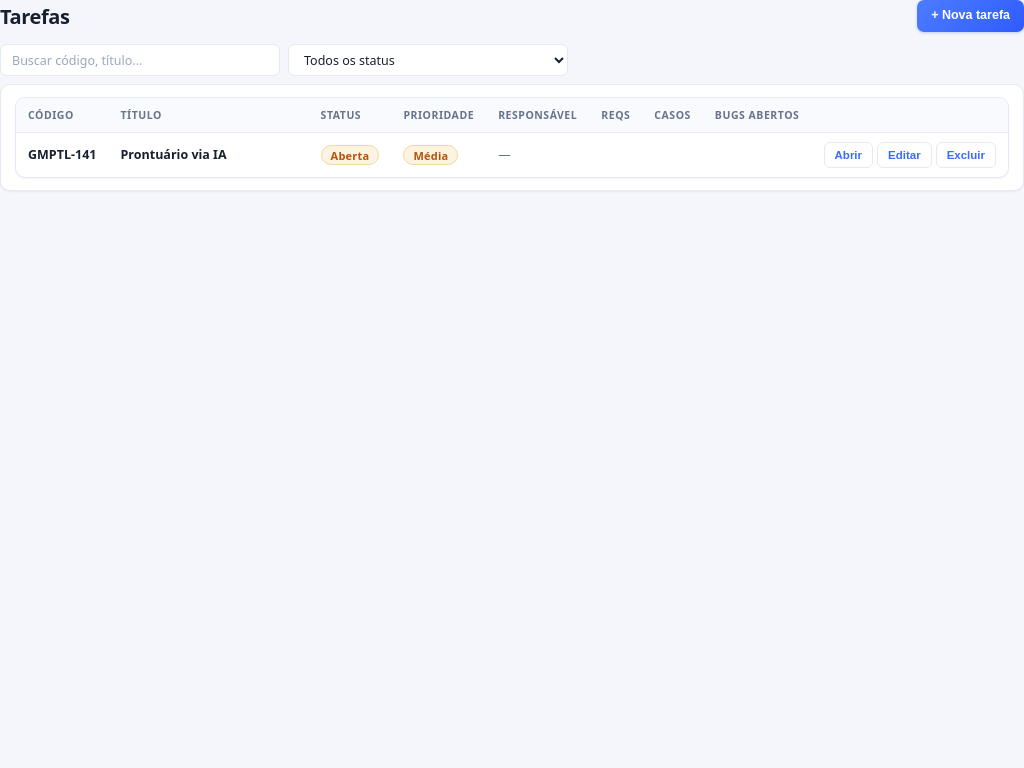
Test: Tasks — anexos da tarefa › carrega e mostra os anexos ao editar
The width and height of the screenshot is (1024, 768).
Click the button "Editar" at {"x": 904, "y": 155}, box [877,142,932,168]
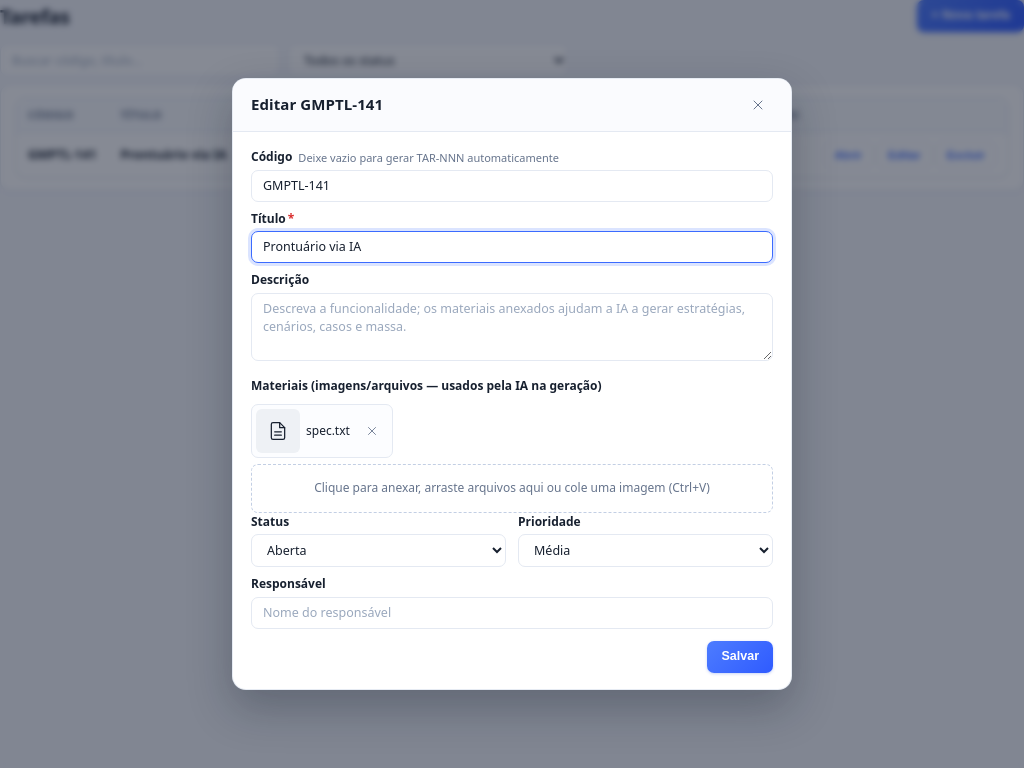
Result: the text "spec.txt" is shown at [306,422,350,440]
Result: the text "Clique para anexar" is shown at [314,479,710,496]
